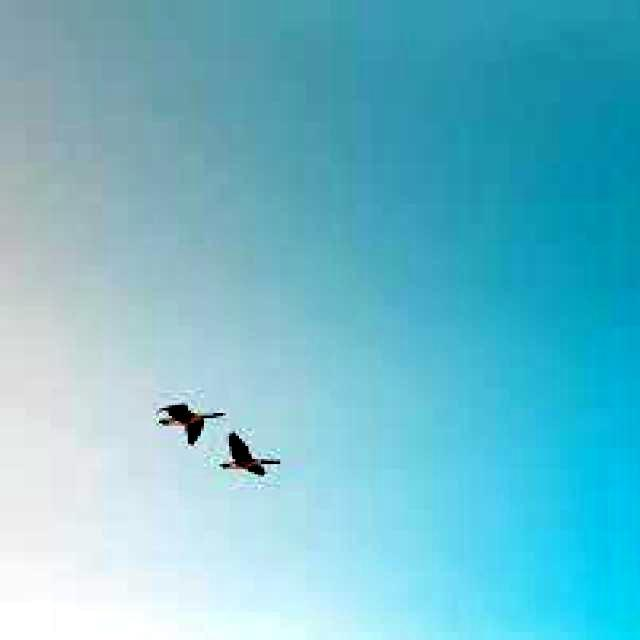bird: (214, 434, 290, 484), (152, 398, 224, 444)
